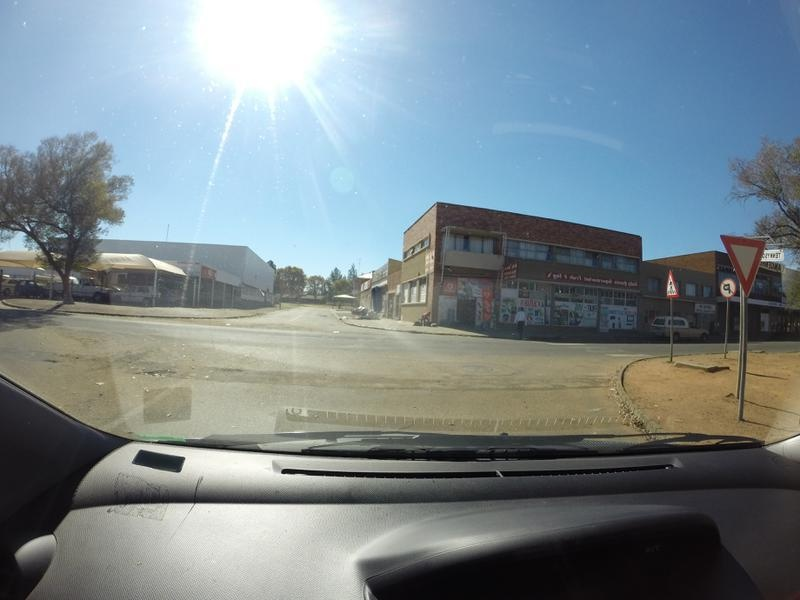pothole: (28, 346, 85, 374), (131, 360, 179, 385), (193, 360, 245, 380)
